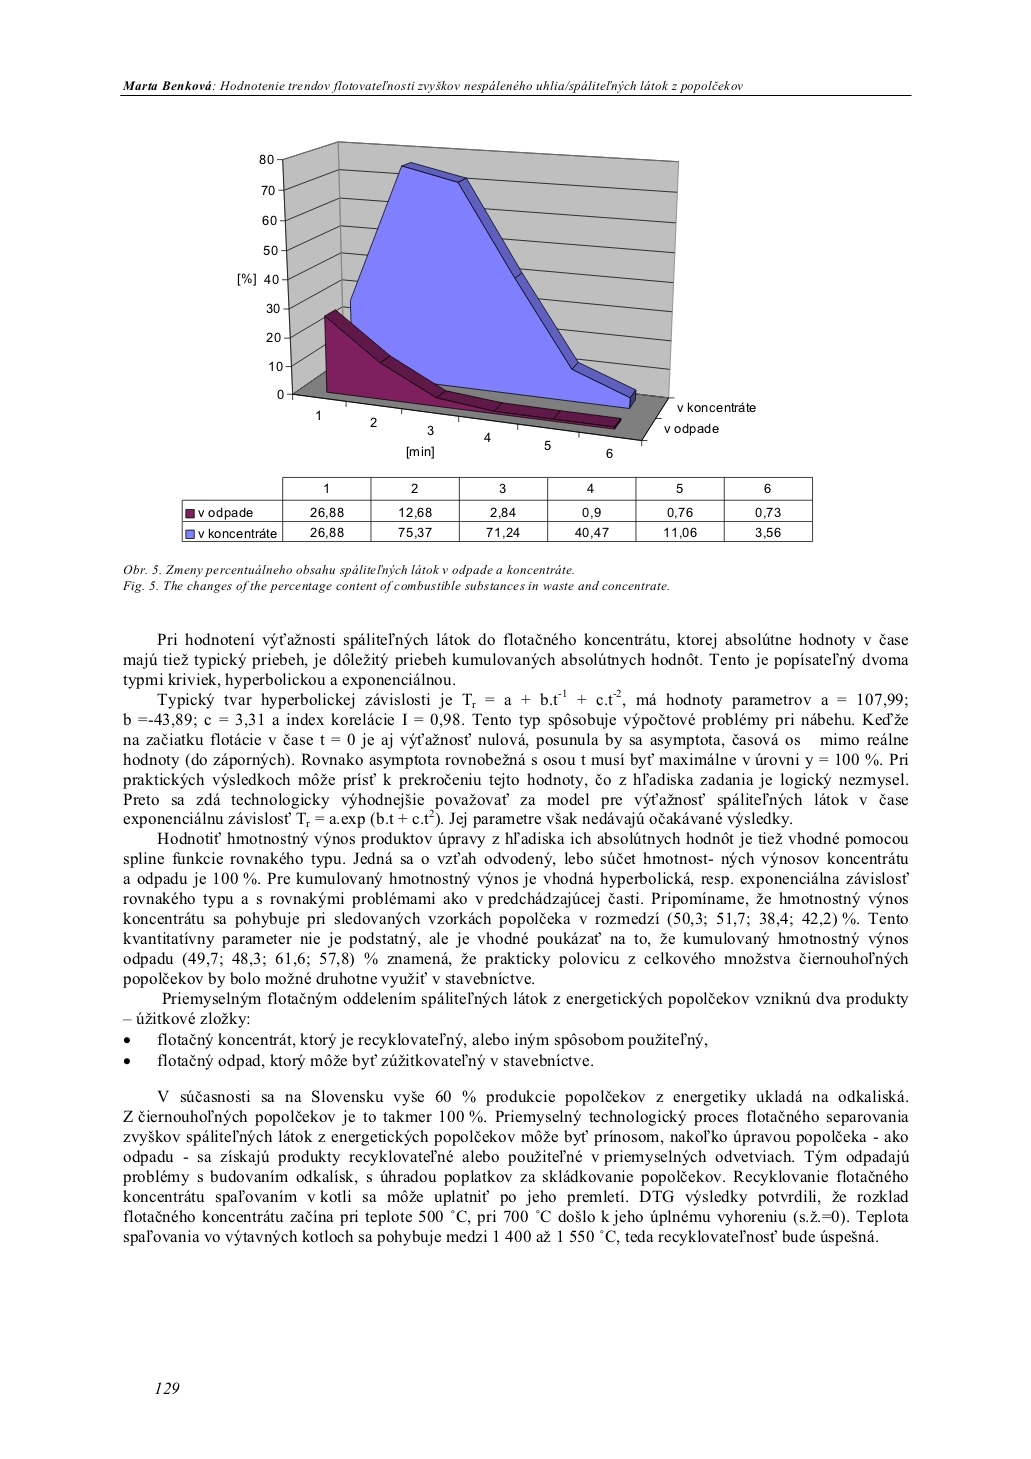Table: (181, 475, 812, 542)
figure: (237, 141, 755, 458)
